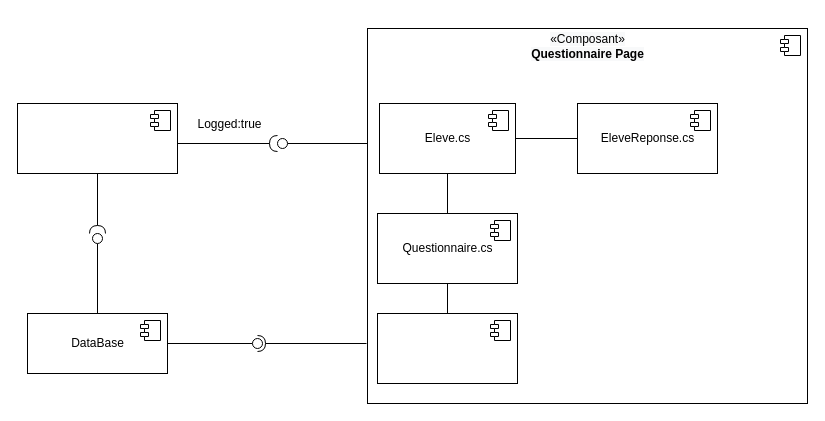
The diagram is 825 pixels wide and 421 high, and some of its shapes have lost their labels. Here are the shapes that lost their labels. From the top down, the centre of each, then its label:
At point (97, 138): "«Composant» Login Page".
At point (447, 348): "Question.cs".
